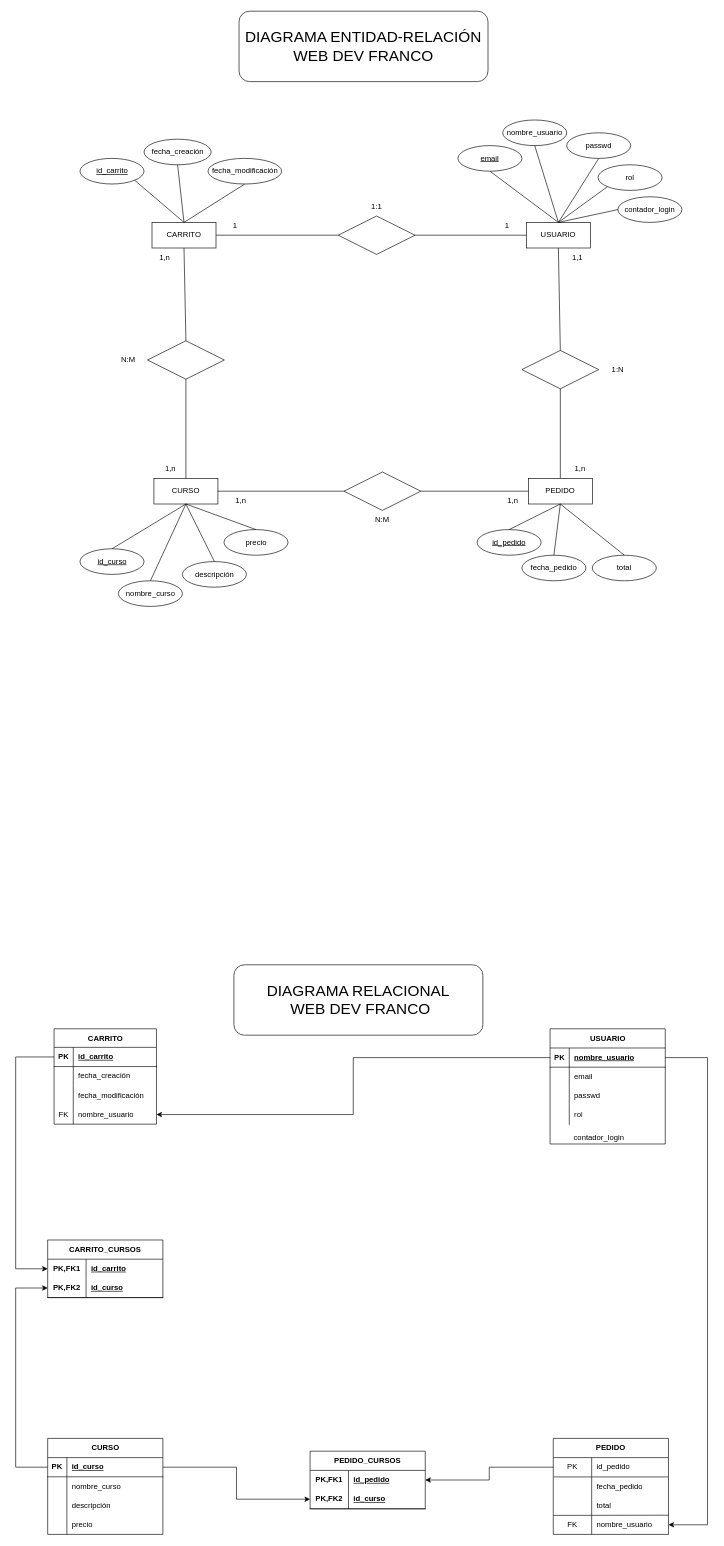
Image size: 724x1546. Some labels were removed from this diagram. The centre of each missing label's shape, as x and y in pixels:
añade: (185,359)
compone: (376,234)
compra: (382,490)
realiza: (560,369)
